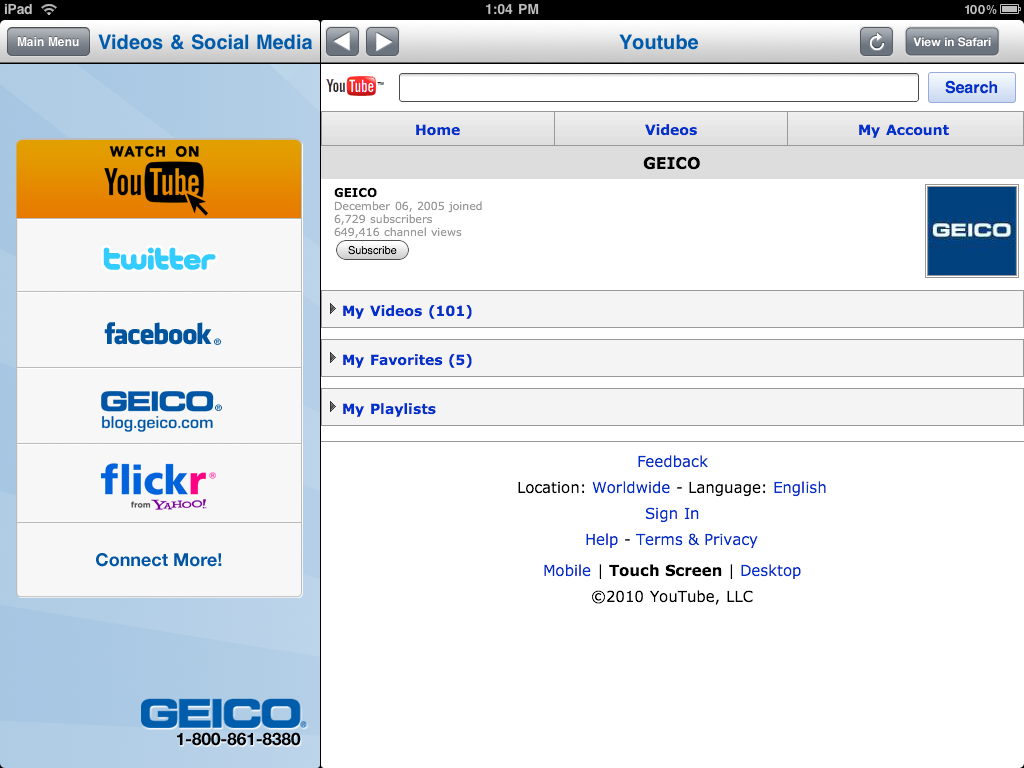geico: (136, 694, 315, 729), (96, 387, 230, 418)
